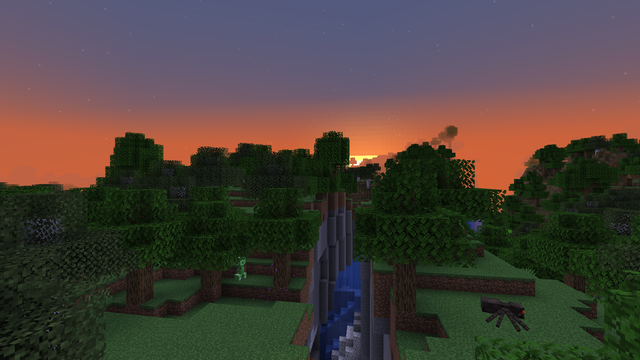araignees: (481, 293, 529, 329)
creepers: (234, 260, 244, 279)
